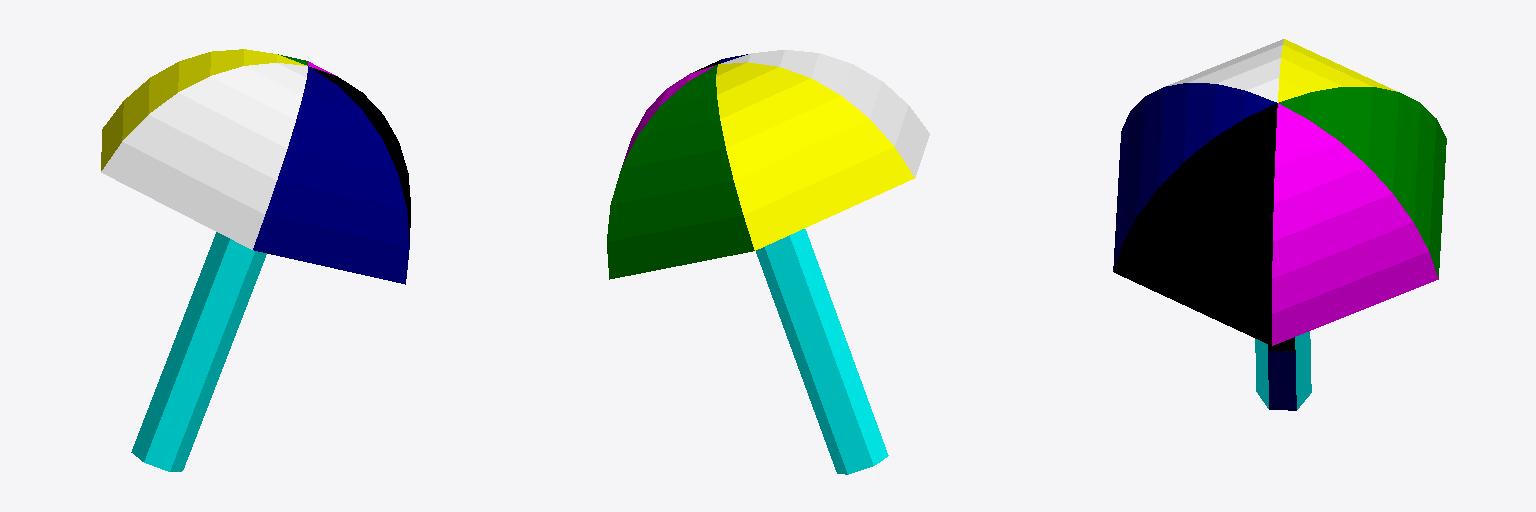
3 views of the same model, side by side, from view 1: azimuth 30°, elevation 25°; view 2: azimuth 150°, elevation 25°; view 3: azimuth 270°, elevation 25° (orthographic).
Visible parts, largest first — view 1: Sphere; view 2: Sphere; view 3: Sphere.
Boxes of the visible parts, x1=… form: Sphere: x1=101, y1=49, x2=410, y2=471; Sphere: x1=607, y1=50, x2=929, y2=474; Sphere: x1=1113, y1=39, x2=1446, y2=410.
Bounding box in the file's own units: 15.24 × 18.53 × 14.56.
1 materials, 1 textured.